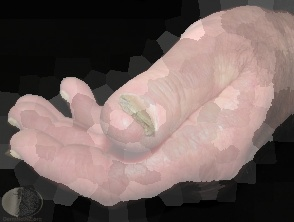Nail_psoriasis: (111, 78, 173, 152), (54, 84, 83, 110), (1, 112, 31, 136), (0, 144, 28, 165)
